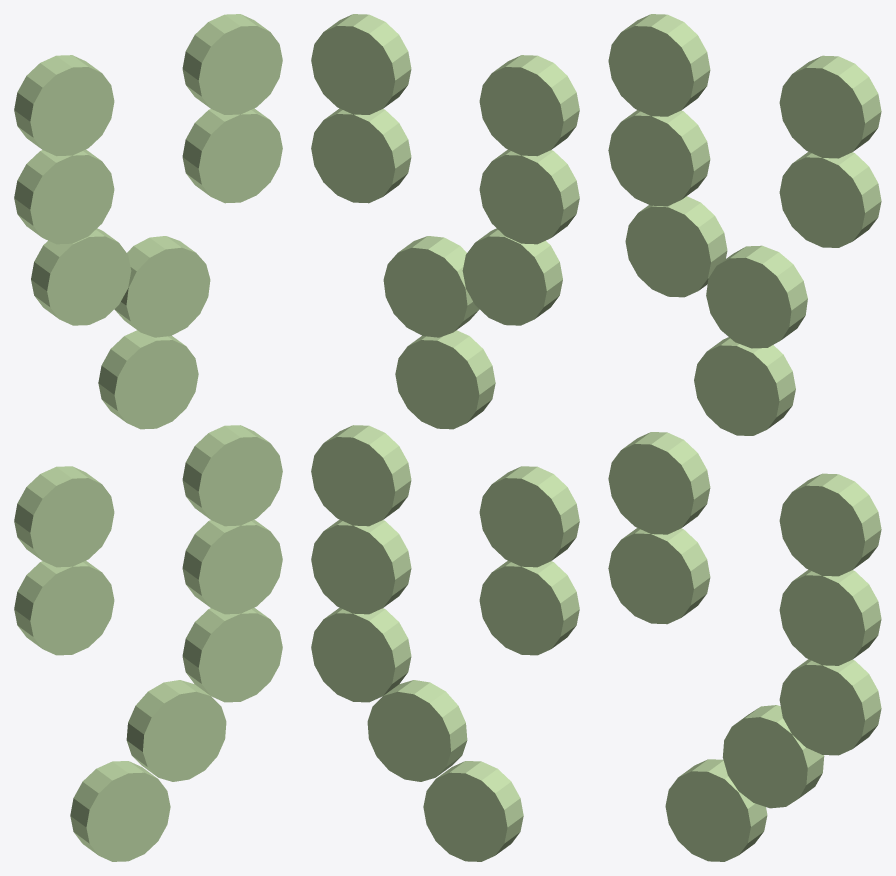
The model's file is cryptex_balls_out_ek_yuzler.fbx.
3 views of the same model, side by side, from view 1: azimuth 30°, elevation 25°; view 2: azimuth 150°, elevation 25°; view 3: azimuth 330°, elevation 25° (orthographic).
Parts seen in each view (by area): view 1: source.003, source.014, source.013, source.015, source.005, source.006, source.010, source.011, source.007, source.004, source.012, source.002 (+2 smaller); view 2: source.003, source.014, source.013, source.015, source.005, source.006, source.010, source.011, source.007, source.004, source.012, source.002 (+2 smaller); view 3: source.006, source.003, source.013, source.005, source.009, source.004, source.002, source.012, source.007, source.011, source.008, source.010 (+2 smaller).
Part boxes in pixels (<box>): source.003: <box>182,425,282,526</box>; source.014: <box>126,680,226,781</box>; source.013: <box>14,466,114,567</box>; source.015: <box>70,761,170,861</box>; source.005: <box>14,55,114,156</box>; source.006: <box>182,14,282,114</box>; source.010: <box>98,330,198,429</box>; source.011: <box>182,519,282,614</box>; source.007: <box>182,108,282,203</box>; source.004: <box>182,607,282,702</box>; source.012: <box>14,561,114,655</box>; source.002: <box>14,149,114,244</box>; source.003: <box>311,425,411,526</box>; source.014: <box>367,680,467,781</box>; source.013: <box>479,466,579,567</box>; source.015: <box>423,761,523,861</box>; source.005: <box>479,55,579,156</box>; source.006: <box>311,14,411,114</box>; source.010: <box>395,330,495,429</box>; source.011: <box>311,519,411,614</box>; source.007: <box>311,108,411,203</box>; source.004: <box>311,607,411,702</box>; source.012: <box>479,561,579,655</box>; source.002: <box>479,149,579,244</box>; source.006: <box>779,55,881,158</box>; source.003: <box>779,473,881,576</box>; source.013: <box>608,432,710,534</box>; source.005: <box>608,14,710,116</box>; source.009: <box>706,245,807,348</box>; source.004: <box>779,659,881,755</box>; source.002: <box>608,110,710,206</box>; source.012: <box>608,528,710,624</box>; source.007: <box>779,152,881,247</box>; source.011: <box>779,569,881,665</box>; source.008: <box>625,196,727,297</box>; source.010: <box>694,337,795,435</box>.
Size of the model in its own units: 180 by 550 by 20.
1 material, 1 textured.
